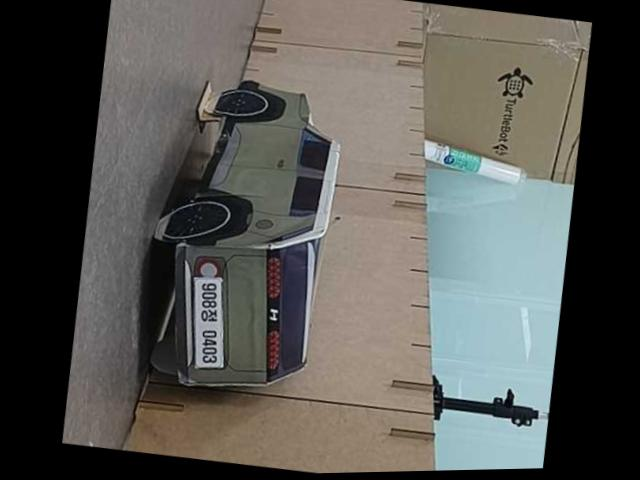car: (126, 62, 364, 414)
id: (177, 264, 242, 377)
